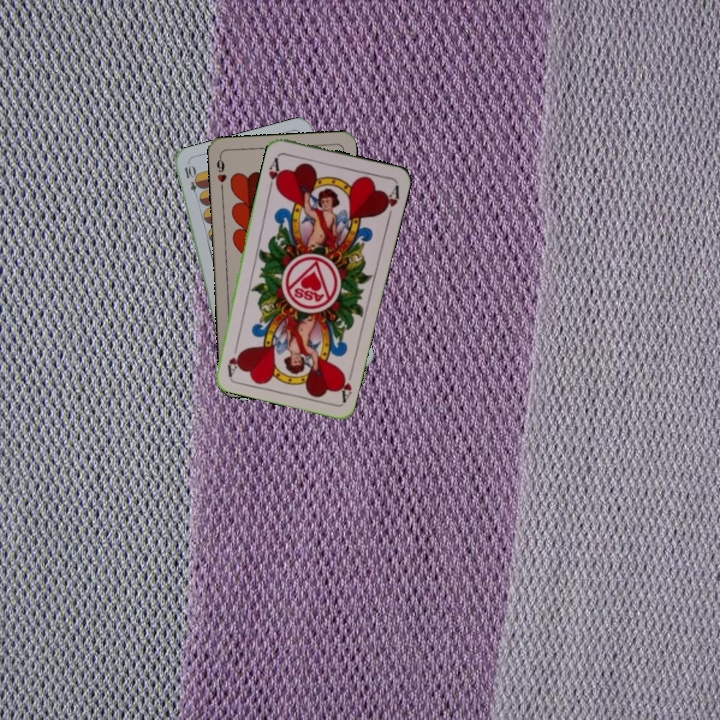E10: (180, 161, 202, 201)
H9: (212, 152, 229, 193)
HA: (334, 364, 356, 404), (264, 152, 285, 192)
